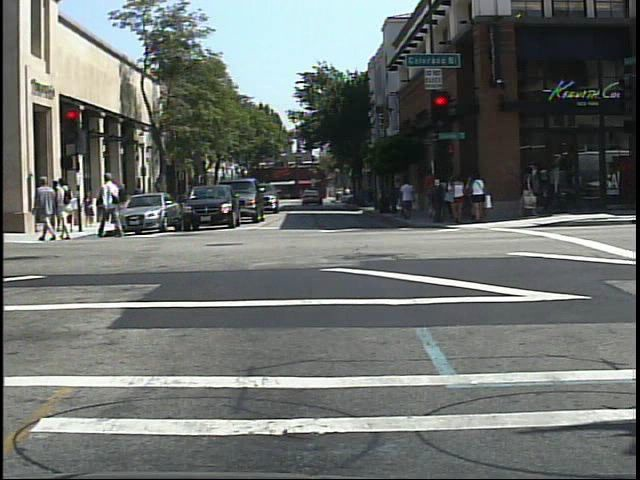person: (100, 169, 126, 238), (33, 171, 57, 245), (56, 175, 80, 245)
